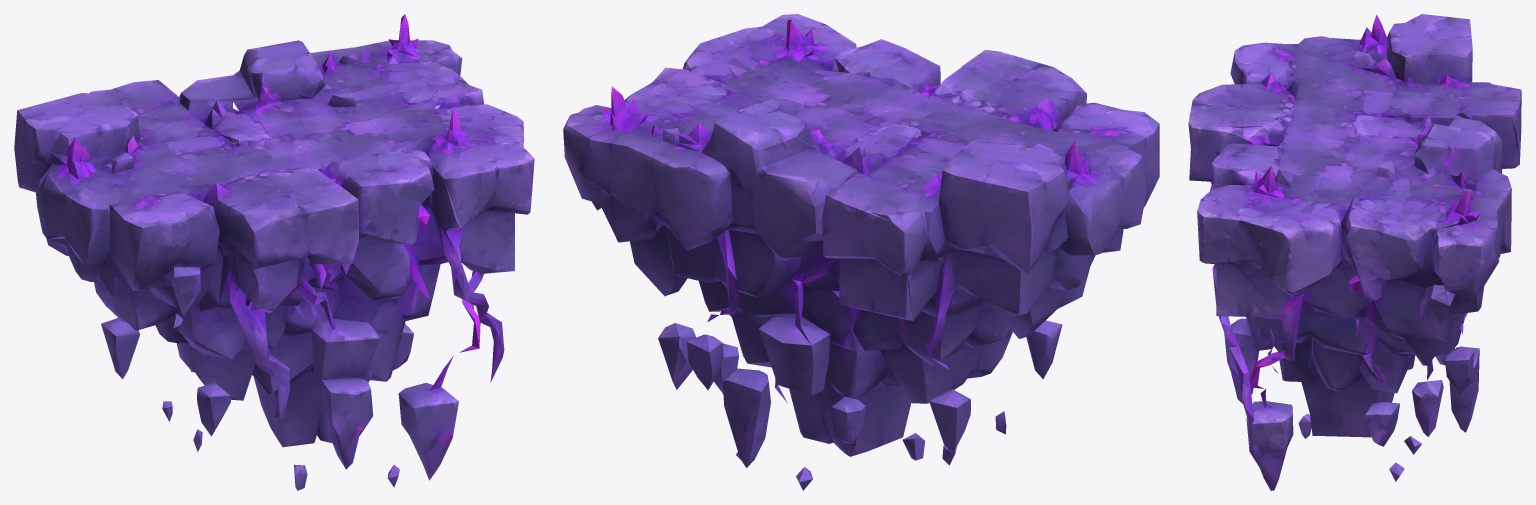
Rendered from floating_island_starfall.glb.
3 views of the same model, side by side, from view 1: azimuth 30°, elevation 25°; view 2: azimuth 150°, elevation 25°; view 3: azimuth 270°, elevation 25° (orthographic). The views are drawn at different scales.
Visible parts, largest first — view 1: body; view 2: body; view 3: body.
Boxes of the visible parts, x1,y1,x2,y2 form: body: (14,14,534,490); body: (563,14,1159,490); body: (1188,14,1521,490).
Bounding box in the file's own units: 2.51 × 1.99 × 1.75.
Materials: 1 (1 with a texture image).
